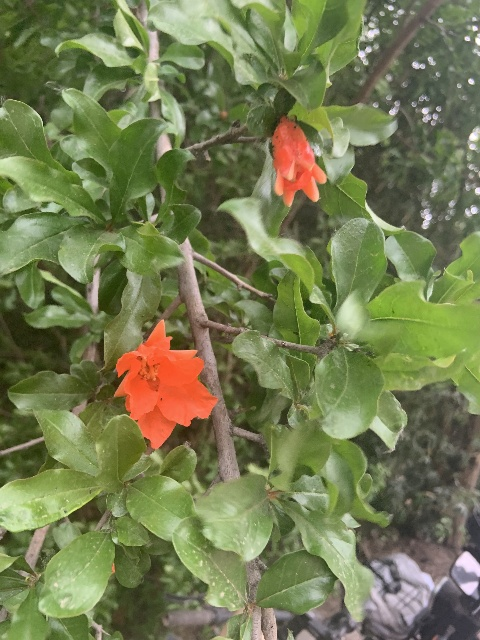flower: (114, 320, 218, 449), (270, 114, 326, 207)
